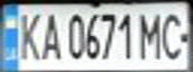0: (63, 9, 84, 61)
1: (115, 9, 139, 61)
6: (81, 9, 103, 61)
7: (100, 10, 118, 61)
A: (36, 9, 63, 61)
C: (157, 7, 190, 61)
K: (12, 8, 45, 62)
M: (136, 8, 166, 60)
